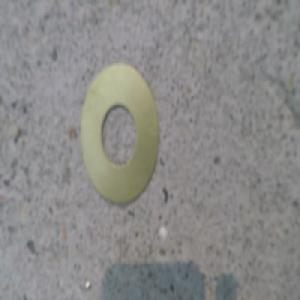Washer: (80, 66, 159, 207)
